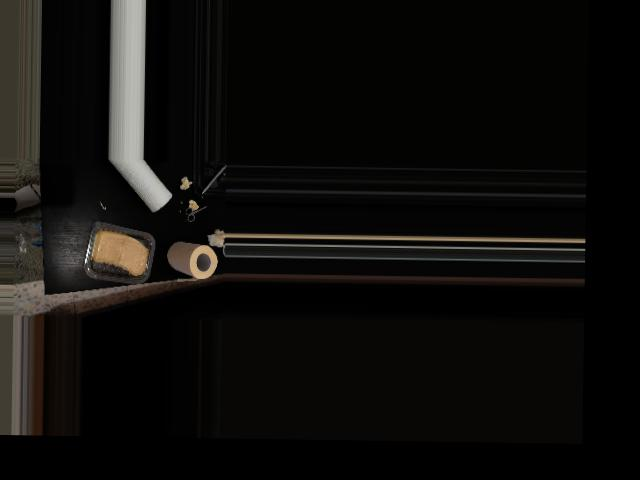cheese: (83, 223, 155, 279)
